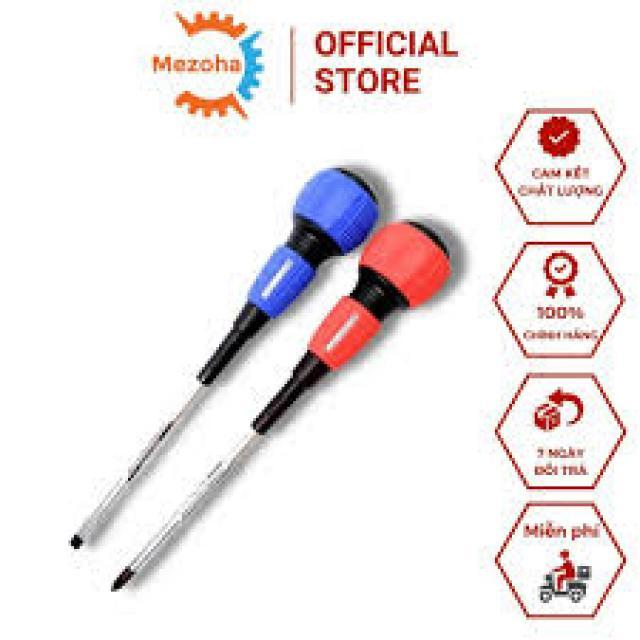screwdriver: (102, 217, 456, 598), (61, 164, 383, 556)
